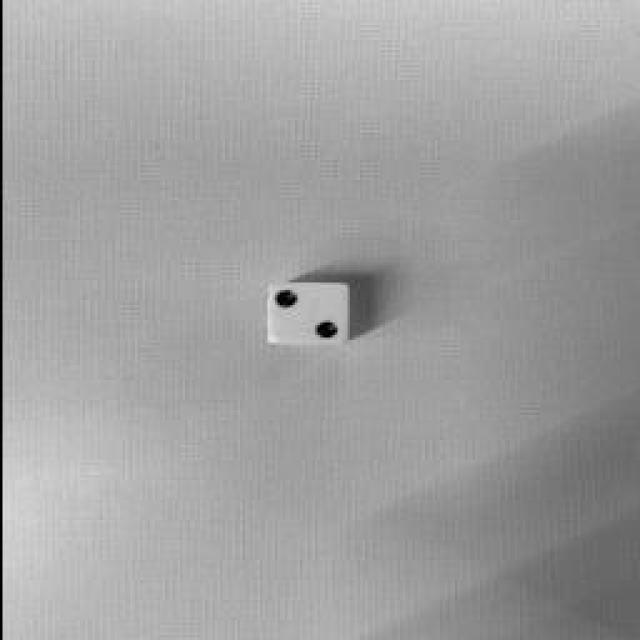dice_2: (268, 283, 348, 345)
